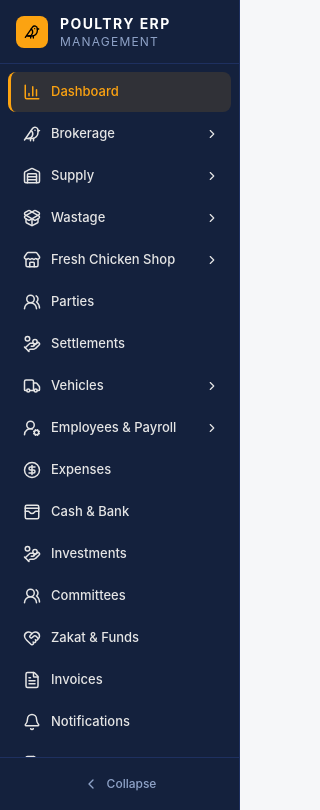
Test: Sidebar › shows management navigation to owners
Check: the text "Brokerage" is shown, box [51,125,115,141]
Check: the text "Purchases" is not shown
Click the button "Brokerage" at (120, 134), box [8,114,231,154]
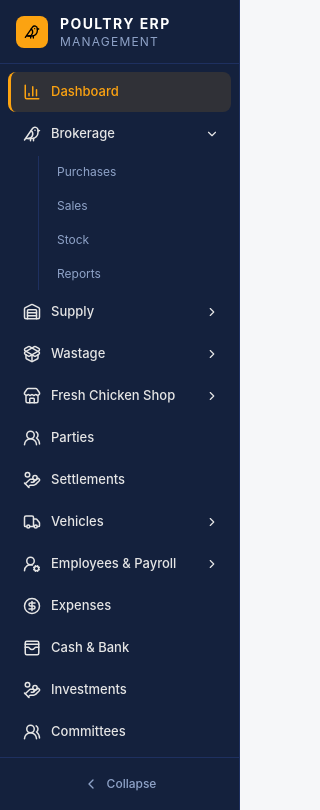
Check: the link "Purchases" is shown, box [57,164,116,179]
Check: the link "Sales" is shown, box [57,198,88,213]
Check: the link "Stock" is shown, box [57,232,89,247]
Click the button "Supply" at (120, 312), box [8,292,231,332]
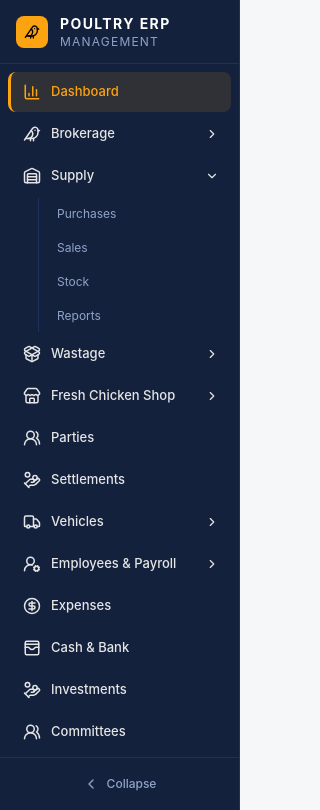
Click the button "Vehicles" at (120, 522), box [8,502,231,542]
(page scrolled)
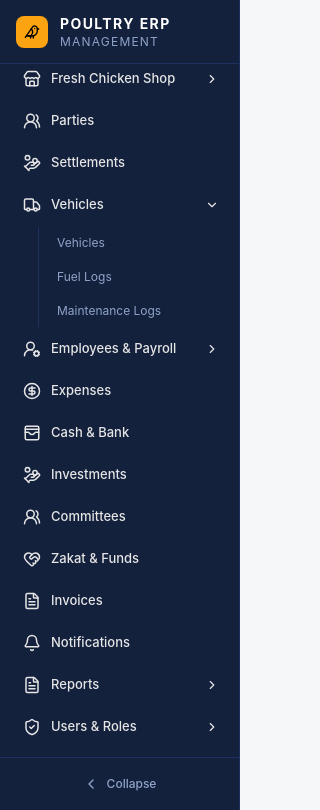
Check: the link "Fuel Logs" is shown, box [57,269,112,284]
Check: the link "Maintenance Logs" is shown, box [57,303,161,318]
Check: the text "Users & Roles" is shown, box [51,718,137,734]
